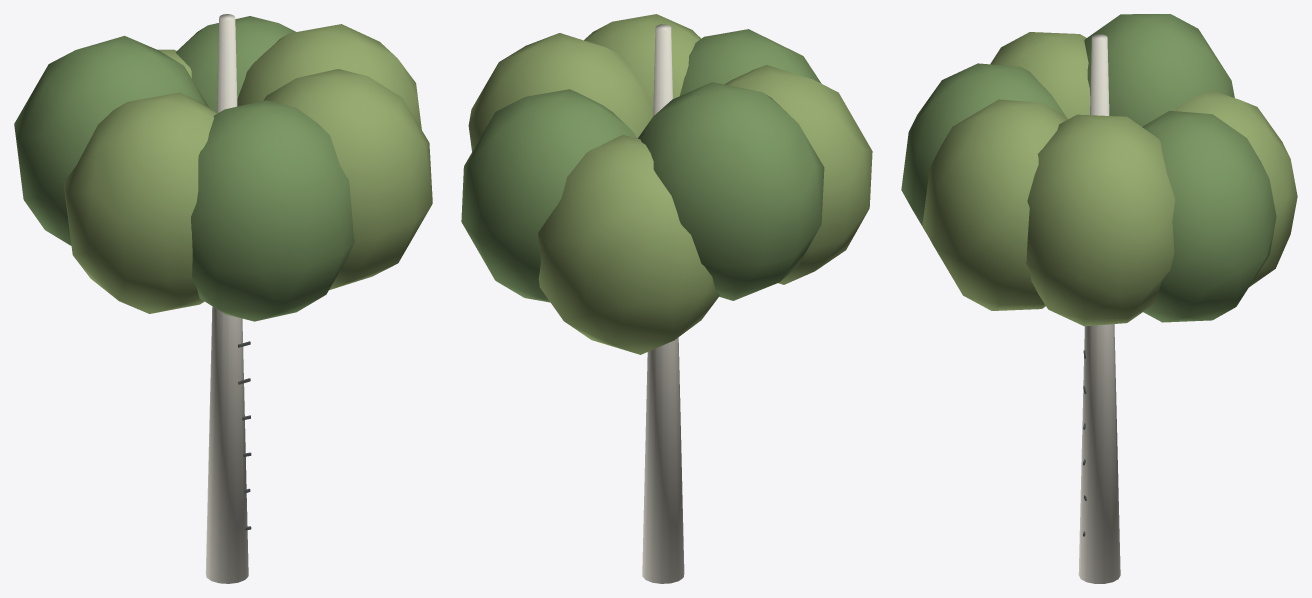
File: Tree_Birch_01_LOD1.fbx
The picture shows the model from 3 angles, left to right: view 1: azimuth 30°, elevation 25°; view 2: azimuth 150°, elevation 25°; view 3: azimuth 270°, elevation 25°; orthographic projection. The views are drawn at different scales.
Visible parts, largest first — view 1: Tree_Birch_01_OPT_Merged_ENV_Leaf_Light_OPT_DATA_LOD1, Tree_Birch_01_OPT_Merged_ENV_Leaf_Sage_OPT_DATA_LOD1, Tree_Birch_01_OPT_Merged_ENV_Birch_Bark_OPT_DATA_LOD1; view 2: Tree_Birch_01_OPT_Merged_ENV_Leaf_Light_OPT_DATA_LOD1, Tree_Birch_01_OPT_Merged_ENV_Leaf_Sage_OPT_DATA_LOD1, Tree_Birch_01_OPT_Merged_ENV_Birch_Bark_OPT_DATA_LOD1; view 3: Tree_Birch_01_OPT_Merged_ENV_Leaf_Light_OPT_DATA_LOD1, Tree_Birch_01_OPT_Merged_ENV_Leaf_Sage_OPT_DATA_LOD1, Tree_Birch_01_OPT_Merged_ENV_Birch_Bark_OPT_DATA_LOD1.
Boxes of the visible parts, left/top/right/bottom form: Tree_Birch_01_OPT_Merged_ENV_Leaf_Light_OPT_DATA_LOD1: left=64, top=24, right=432, bottom=313; Tree_Birch_01_OPT_Merged_ENV_Leaf_Sage_OPT_DATA_LOD1: left=14, top=16, right=354, bottom=321; Tree_Birch_01_OPT_Merged_ENV_Birch_Bark_OPT_DATA_LOD1: left=205, top=14, right=248, bottom=583; Tree_Birch_01_OPT_Merged_ENV_Leaf_Light_OPT_DATA_LOD1: left=468, top=14, right=872, bottom=354; Tree_Birch_01_OPT_Merged_ENV_Leaf_Sage_OPT_DATA_LOD1: left=461, top=29, right=824, bottom=302; Tree_Birch_01_OPT_Merged_ENV_Birch_Bark_OPT_DATA_LOD1: left=642, top=24, right=684, bottom=583; Tree_Birch_01_OPT_Merged_ENV_Leaf_Light_OPT_DATA_LOD1: left=922, top=32, right=1297, bottom=326; Tree_Birch_01_OPT_Merged_ENV_Leaf_Sage_OPT_DATA_LOD1: left=901, top=14, right=1276, bottom=322; Tree_Birch_01_OPT_Merged_ENV_Birch_Bark_OPT_DATA_LOD1: left=1078, top=34, right=1120, bottom=583.
Bounding box in the file's own units: 461 × 680 × 454.
